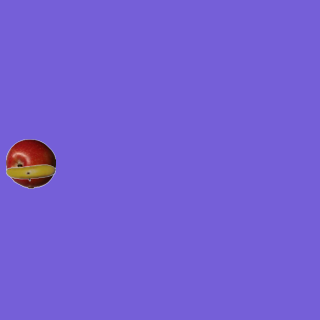Apple Braeburn: (5, 138, 55, 188)
Banana: (5, 147, 55, 197)
